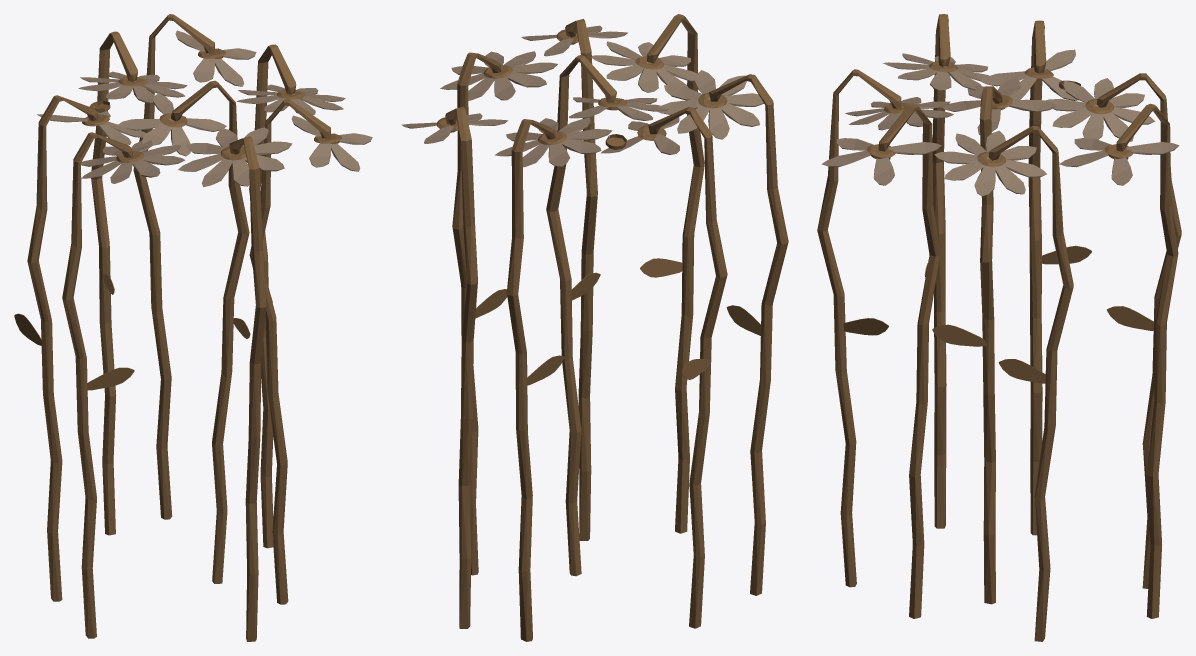
File: margaritas_marchitas_nuevas.fbx
The picture shows the model from 3 angles, left to right: view 1: azimuth 30°, elevation 25°; view 2: azimuth 150°, elevation 25°; view 3: azimuth 270°, elevation 25°; orthographic projection. The views are drawn at different scales.
Parts seen in each view (by area): view 1: Circle.032, Circle.038, Circle.044, Circle.035, Circle.047, Circle.050, Circle.041, Circle.061, petalos :p.017, petalos :p.021, petalos :p.018, petalos :p.022 (+5 smaller); view 2: Circle.047, Circle.044, Circle.050, Circle.038, Circle.035, Circle.032, Circle.041, Circle.061, petalos :p.021, petalos :p.017, petalos :p.016, petalos :p.022 (+6 smaller); view 3: Circle.041, Circle.050, Circle.061, Circle.032, Circle.035, Circle.044, Circle.038, petalos :p.016, petalos :p.022, Circle.047, petalos :p.021, petalos :p.023 (+9 smaller).
Part boxes in pixels (<box>): Circle.032: <box>220,136,266,641</box>; Circle.038: <box>27,95,109,601</box>; Circle.044: <box>62,132,144,638</box>; Circle.035: <box>159,80,249,583</box>; Circle.047: <box>91,31,147,535</box>; Circle.050: <box>133,14,225,519</box>; Circle.041: <box>249,99,341,604</box>; Circle.061: <box>249,44,305,548</box>; petalos :p.017: <box>178,127,292,187</box>; petalos :p.021: <box>81,140,185,183</box>; petalos :p.018: <box>118,93,226,156</box>; petalos :p.022: <box>78,71,187,103</box>; Circle.047: <box>506,119,567,641</box>; Circle.044: <box>698,74,788,595</box>; Circle.050: <box>436,106,477,628</box>; Circle.038: <box>637,107,727,628</box>; Circle.035: <box>546,55,627,576</box>; Circle.032: <box>635,14,704,533</box>; Circle.041: <box>556,19,597,540</box>; Circle.061: <box>452,52,512,575</box>; petalos :p.021: <box>658,70,763,139</box>; petalos :p.017: <box>591,41,696,92</box>; petalos :p.016: <box>440,51,557,100</box>; petalos :p.022: <box>494,117,612,167</box>; Circle.041: <box>866,103,940,618</box>; Circle.050: <box>1104,103,1178,618</box>; Circle.061: <box>977,126,1073,641</box>; Circle.032: <box>817,69,909,587</box>; Circle.035: <box>979,86,1012,604</box>; Circle.044: <box>929,14,957,528</box>; Circle.038: <box>1024,20,1053,535</box>; petalos :p.016: <box>934,130,1046,196</box>; petalos :p.022: <box>1045,78,1155,141</box>; Circle.047: <box>1085,73,1181,588</box>; petalos :p.021: <box>883,53,989,90</box>; petalos :p.023: <box>1059,138,1179,185</box>.
Bounding box in the file's own units: 2192 × 3458 × 2225.
